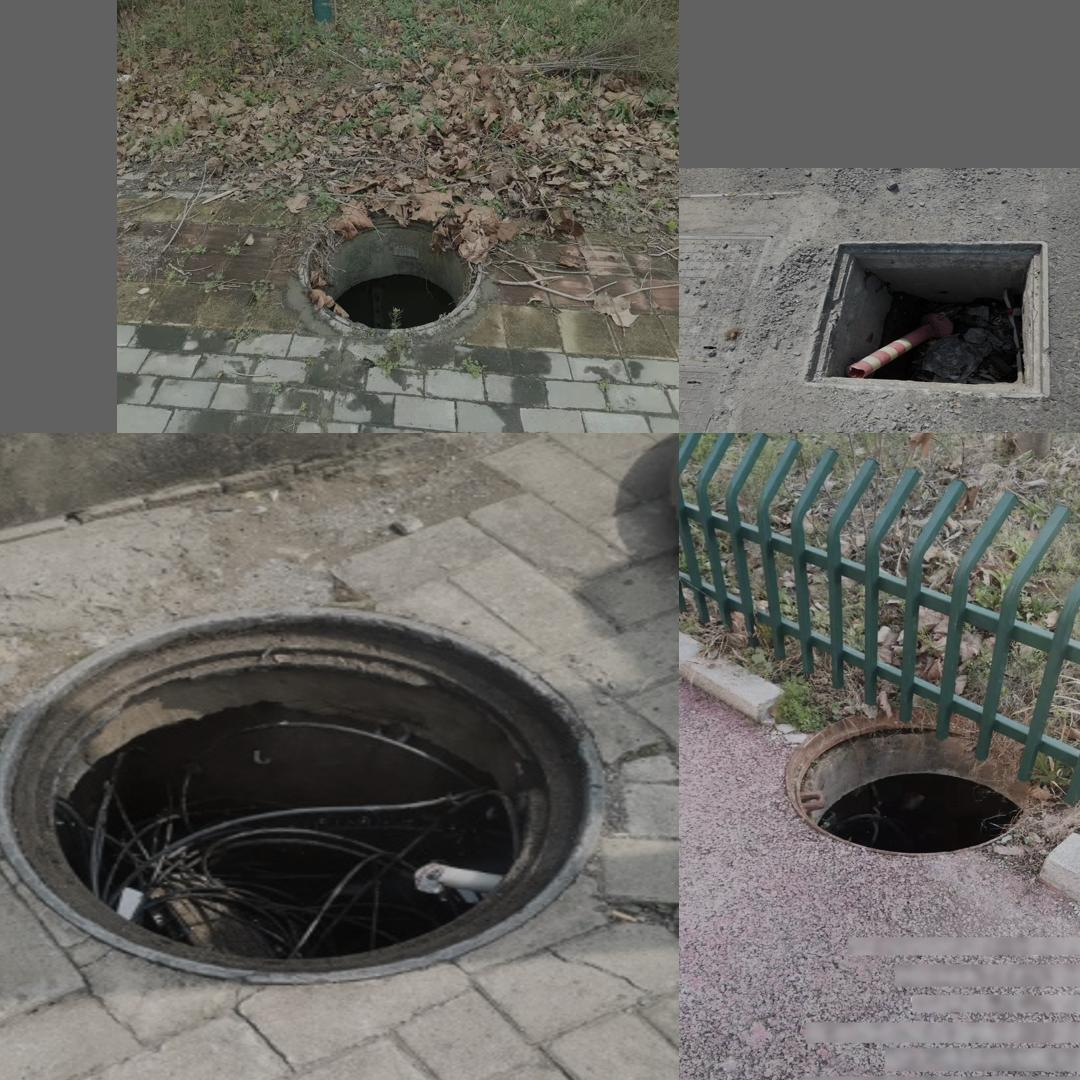lose: (0, 605, 613, 987), (757, 704, 1067, 864), (796, 227, 1071, 397), (301, 212, 483, 328)
